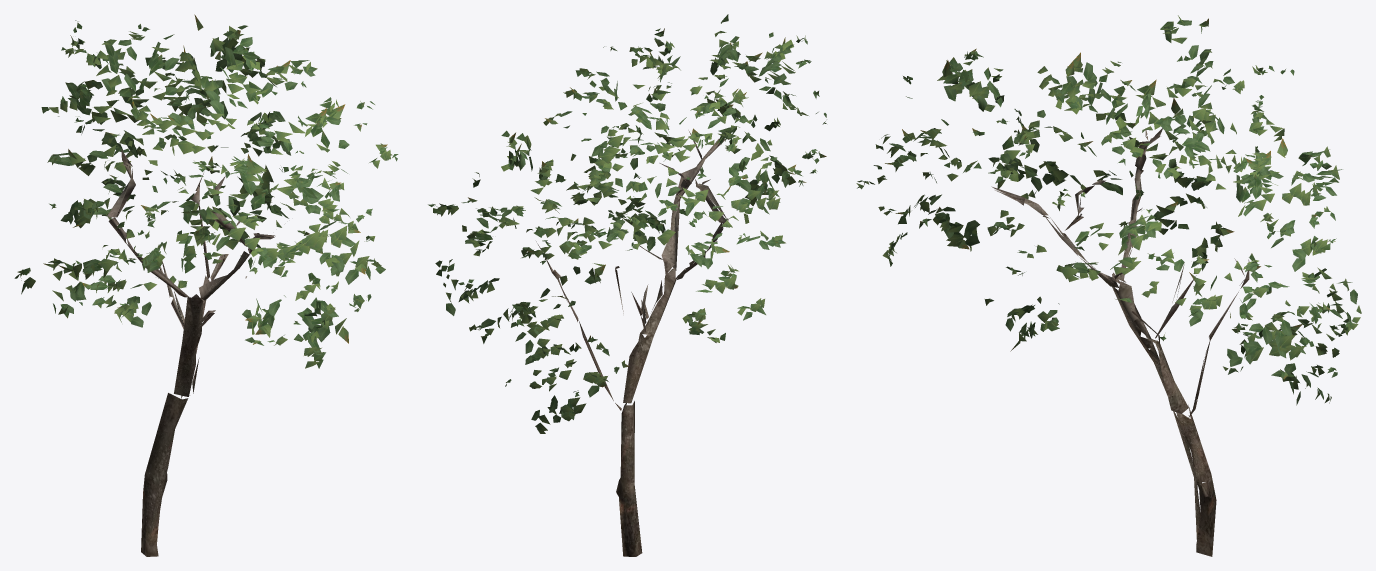
Rendered from veg-tree-sapling-lod1-d52c70b59f7e.glb.
3 views of the same model, side by side, from view 1: azimuth 30°, elevation 25°; view 2: azimuth 150°, elevation 25°; view 3: azimuth 270°, elevation 25° (orthographic). The views are drawn at different scales.
Visible parts, largest first — view 1: veg-tree-sapling_lod1; view 2: veg-tree-sapling_lod1; view 3: veg-tree-sapling_lod1.
Boxes of the visible parts, x1=… form: veg-tree-sapling_lod1: x1=14, y1=14, x2=398, y2=556; veg-tree-sapling_lod1: x1=428, y1=14, x2=826, y2=556; veg-tree-sapling_lod1: x1=856, y1=15, x2=1361, y2=556.
Bounding box in the file's own units: 2.97 × 4.8 × 4.39.
2 materials, 2 textured.
